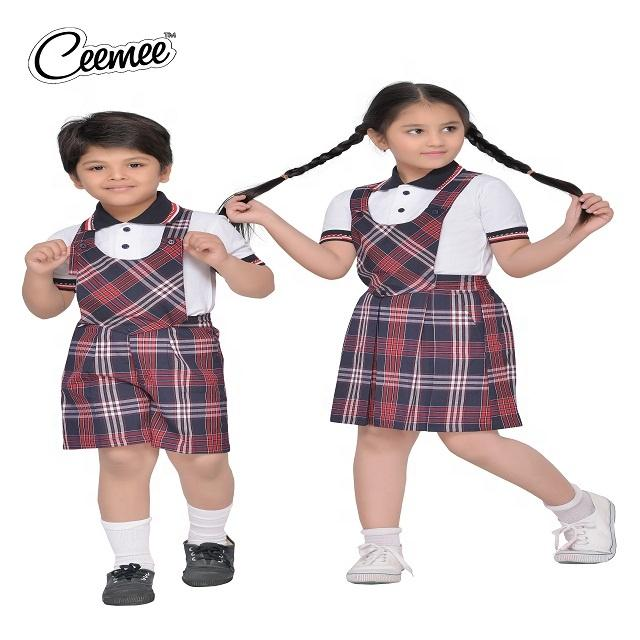child: (225, 77, 640, 603), (8, 100, 285, 619)
